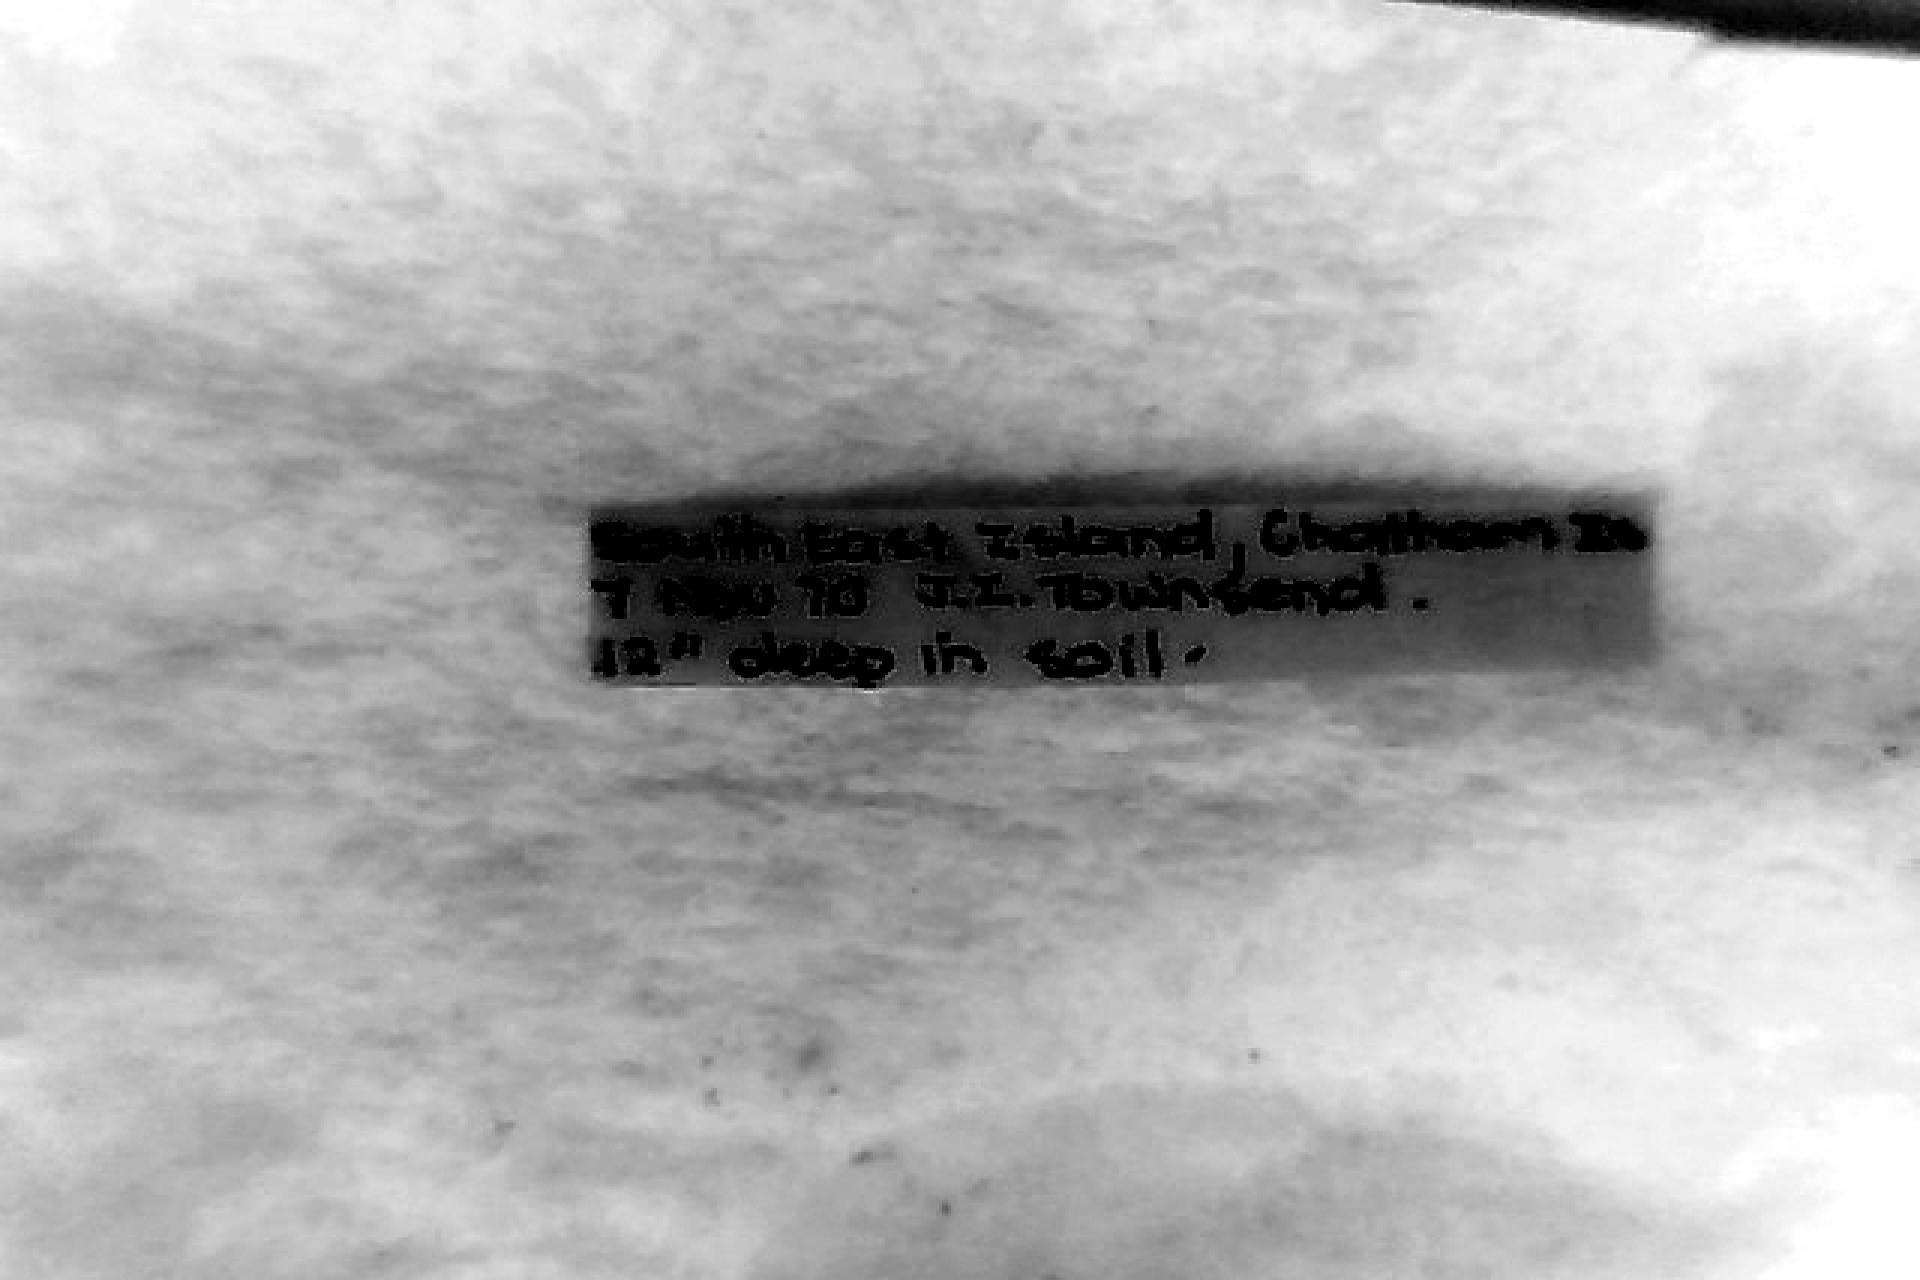hand_label: (593, 493, 1657, 689)
